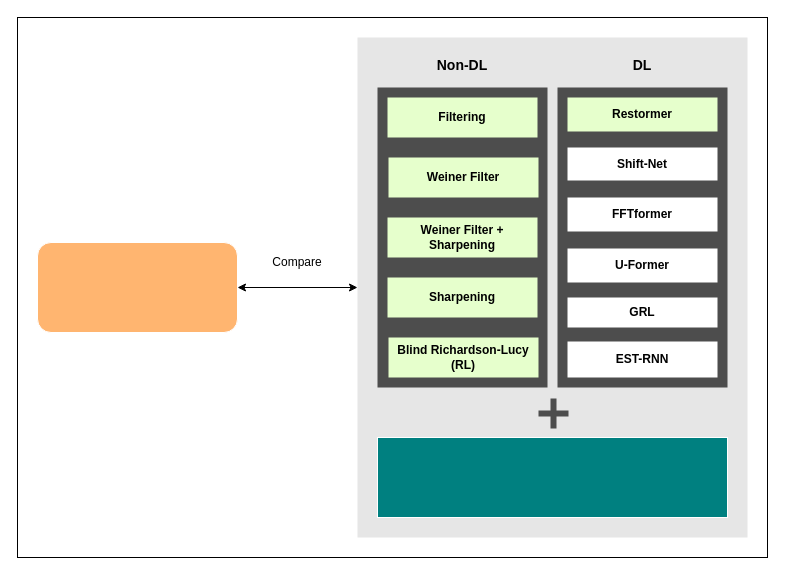
The diagram is 785 pixels wide and 575 high, and some of its shapes have lost their labels. Here are the shapes that lost their labels. From the top down, the centre of each, then its label:
(137,287): Deblur-NeRF (Deblur and 3D-Reconstruction integrated together)
(552,477): Naive NeRF
